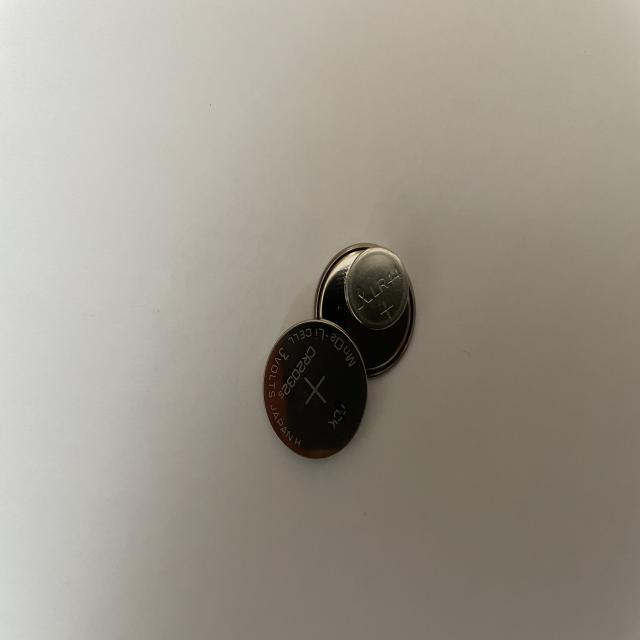COIN: (261, 316, 370, 464), (312, 242, 416, 382), (345, 245, 408, 332)
